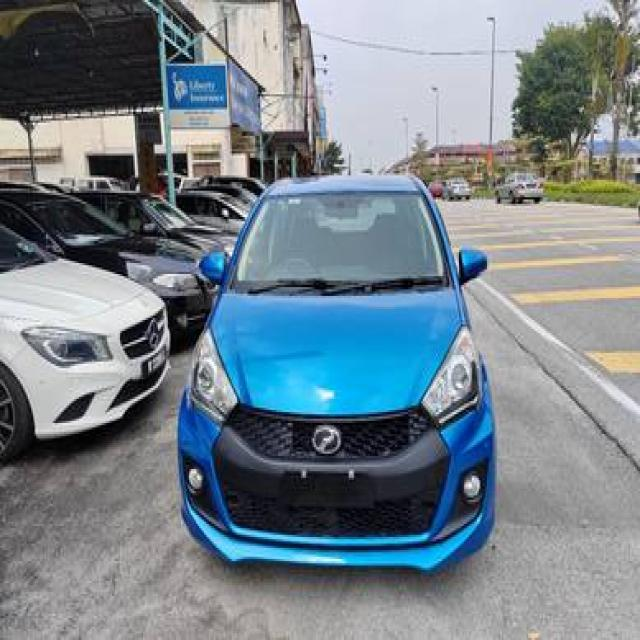PeroduaMyvi: (174, 168, 498, 574)
